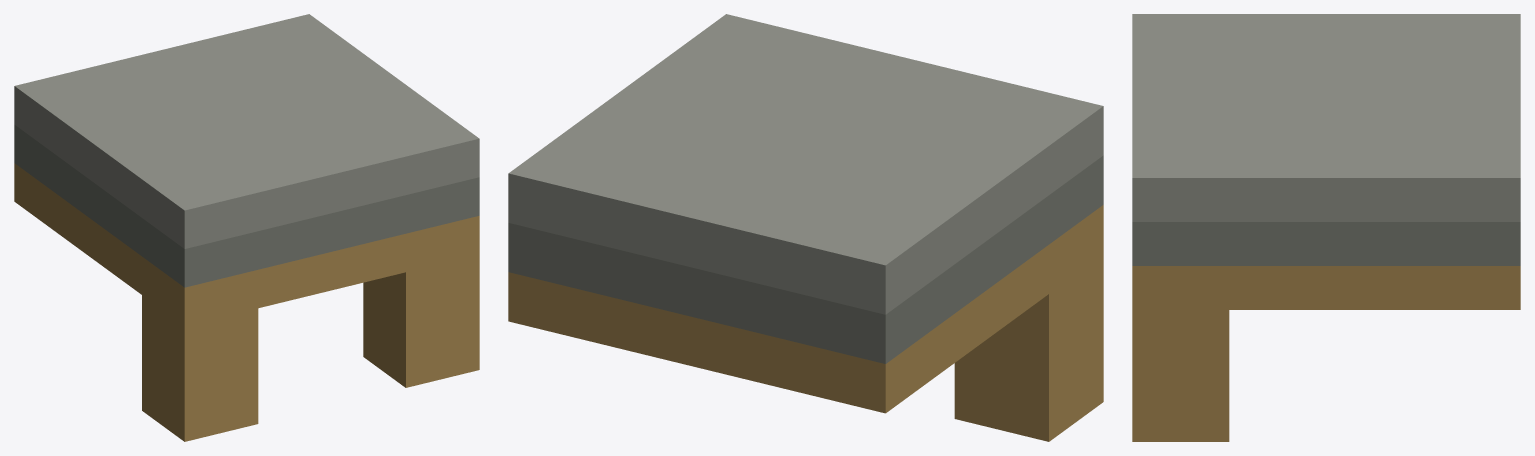
The model's file is Light Gray Bed.glb.
3 renders of one model, left to right at view 1: azimuth 30°, elevation 25°; view 2: azimuth 150°, elevation 25°; view 3: azimuth 270°, elevation 25°, orthographic. The views are drawn at different scales.
Visible parts, largest first — view 1: Untitled; view 2: Untitled; view 3: Untitled.
Part boxes in pixels (x1=…): Untitled: x1=14, y1=14, x2=479, y2=441; Untitled: x1=508, y1=14, x2=1103, y2=441; Untitled: x1=1132, y1=14, x2=1520, y2=441.
Size of the model in its own units: 1.6 by 1.2 by 1.6.
1 material, 1 textured.
